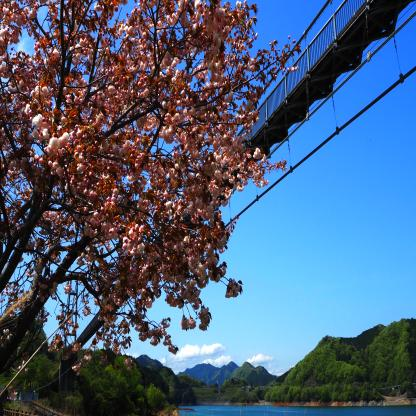YaeSakura: (0, 0, 299, 370)
